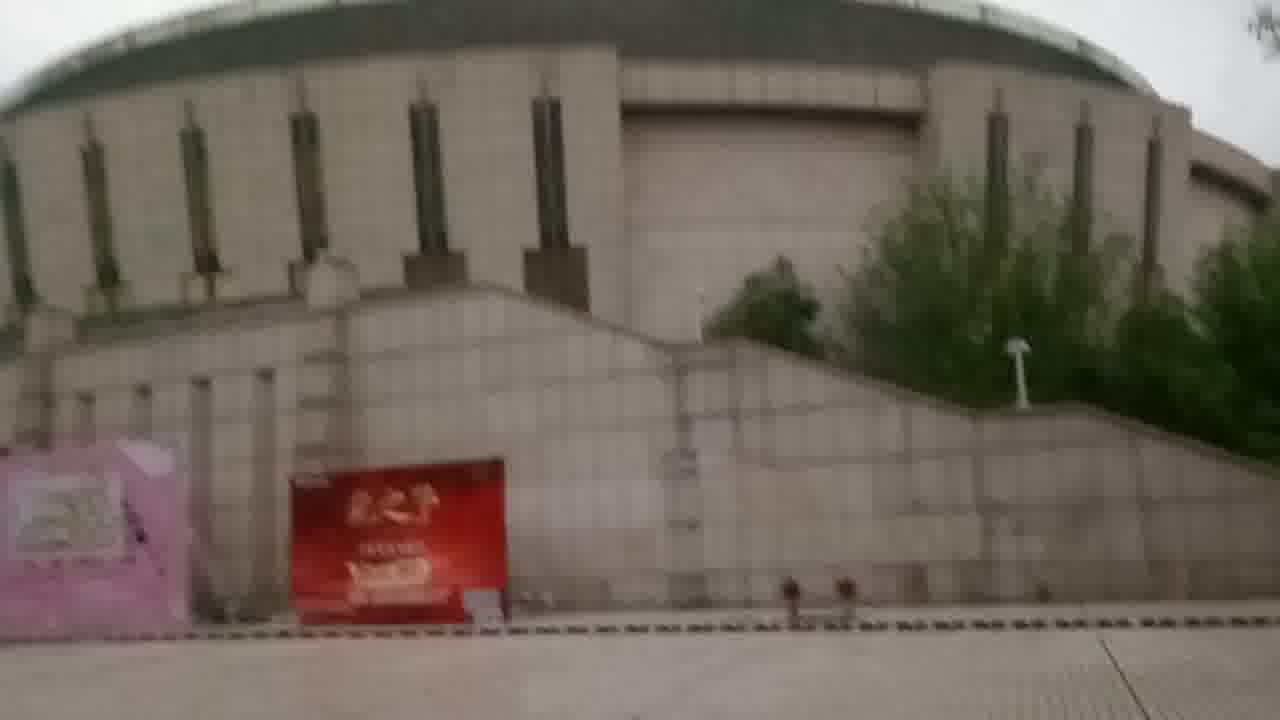zhongtiww: (1, 1, 1264, 632)
